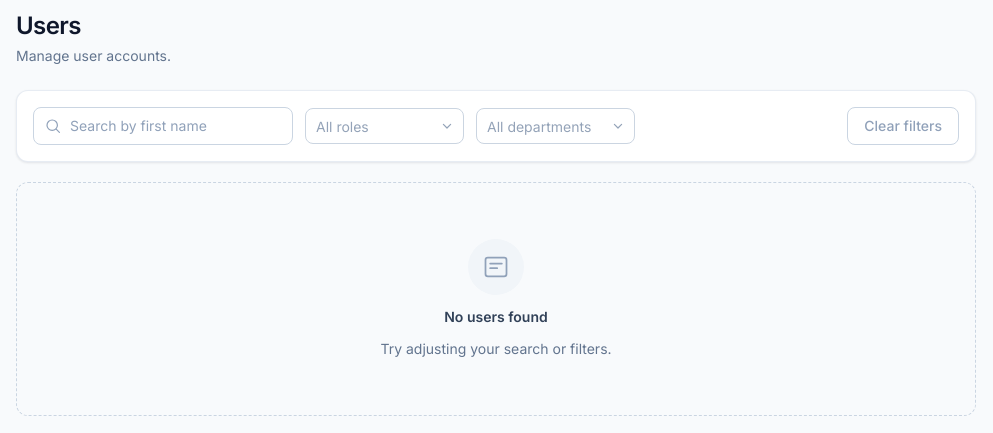
Scenario: UsersListPage › enables the clear-filters button once a filter is active, and clears everything on click
This screenshot has width=993, height=433.
Expected: the button "Clear filters" is disabled, [847,107,959,145]
Type "Jane" into the search field named "Search users".
click(163, 126); type("Jane")  # box [33,107,293,145]
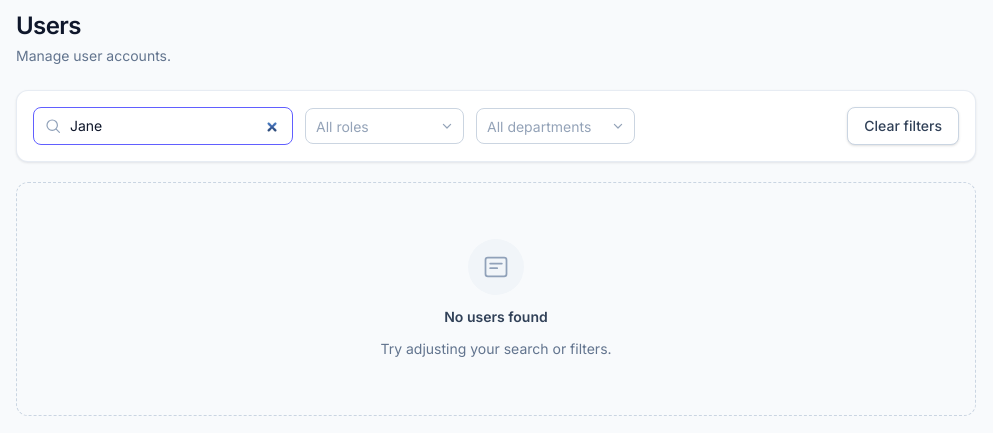
Click the dropdown named "Filter by role".
click(318, 126)  # box [316,116,320,136]
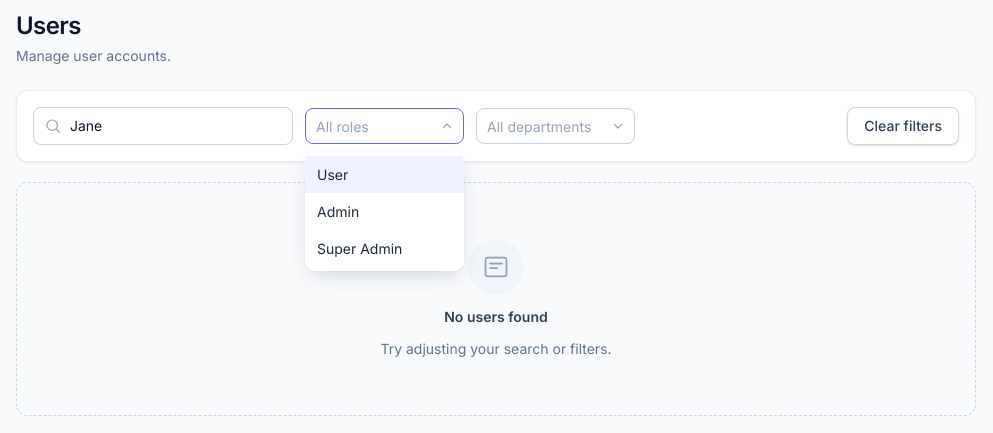
Click the option "Admin".
click(384, 212)  # box [305,193,464,230]
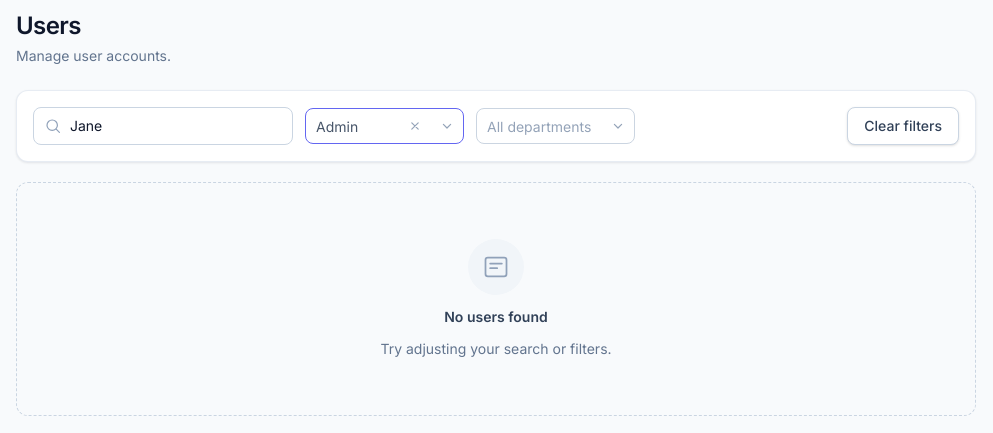
Result: the button "Clear filters" is enabled
Click the button "Clear filters".
click(903, 126)  # box [847,107,959,145]
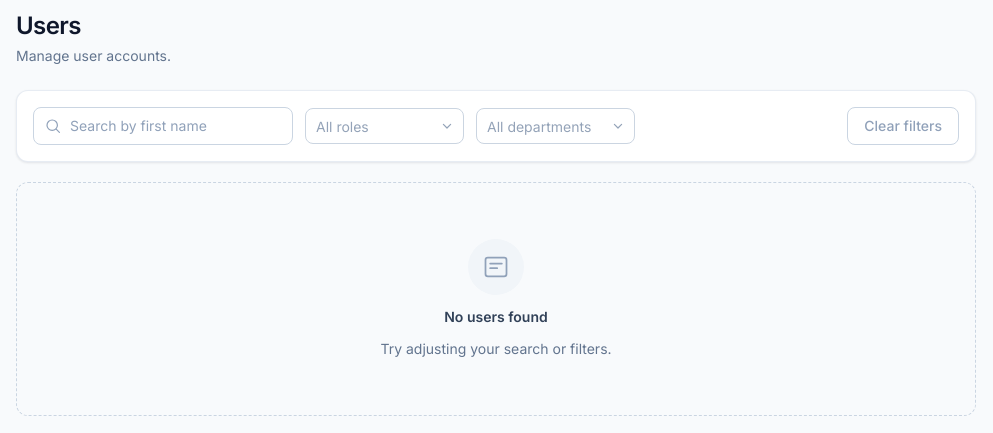
Result: the search field named "Search users" is empty at [33,107,293,145]
Result: the text "All roles" is shown at [316,118,369,134]
Result: the button "Clear filters" is disabled at [847,107,959,145]
